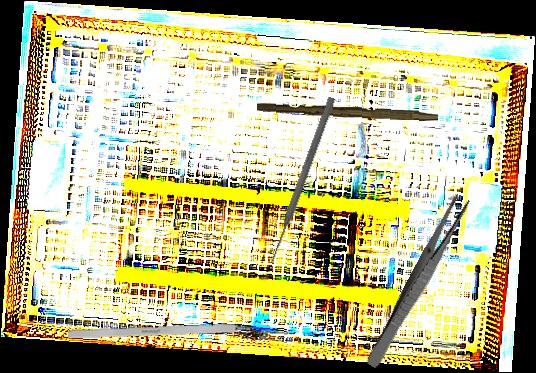Dressing Forceps: (364, 192, 472, 372)
Hook Surgical: (67, 322, 277, 339)
Pusher: (267, 95, 337, 264)
Scalpel Handle: (256, 101, 439, 122)
